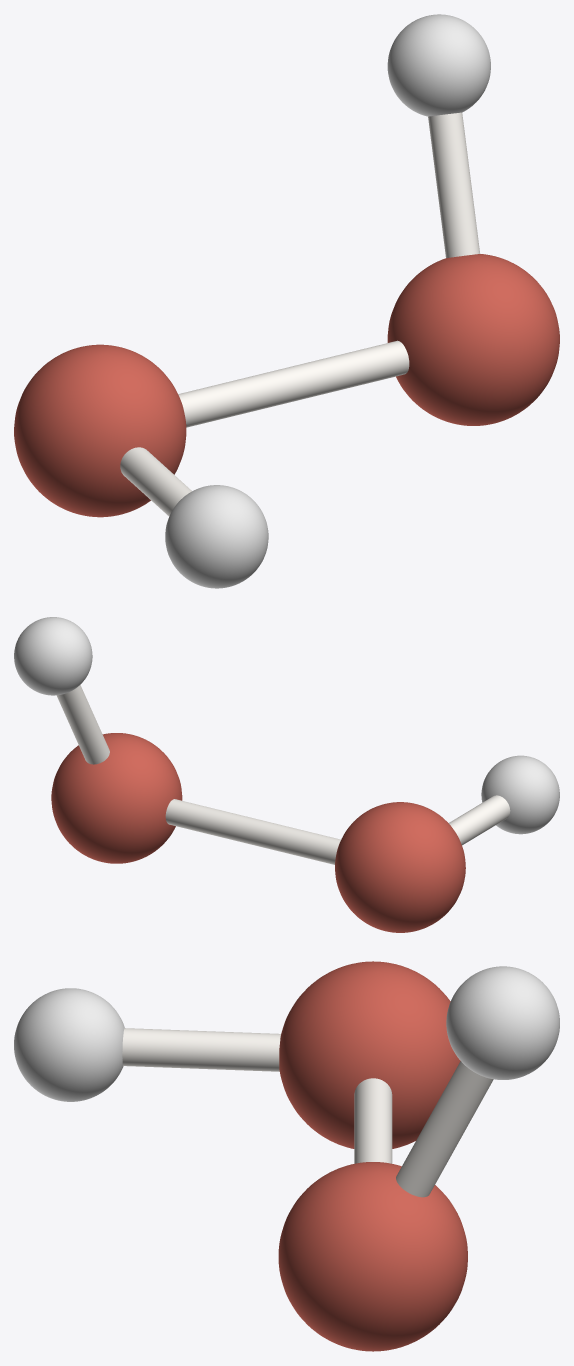
Rendered from s120_8.03_peroxid_vodiku.glb.
3 views of the same model, one above another, from view 1: azimuth 30°, elevation 25°; view 2: azimuth 150°, elevation 25°; view 3: azimuth 270°, elevation 25° (orthographic). The views are drawn at different scales.
Visible parts, largest first — view 1: Sphere 2, Sphere 3, Sphere (×2), Cylinder (×3); view 2: Sphere 3, Sphere 2, Sphere (×2), Cylinder (×3); view 3: Sphere 2, Sphere 3, Sphere (×2), Cylinder (×3).
Part boxes in pixels (box(x1,y1,x2,y2)): Sphere 2: box(387, 254, 559, 425); Sphere 3: box(14, 344, 186, 517); Sphere (×2): box(165, 14, 490, 588); Cylinder (×3): box(120, 112, 480, 516); Sphere 3: box(335, 802, 465, 932); Sphere 2: box(51, 733, 182, 863); Sphere (×2): box(14, 617, 559, 834); Cylinder (×3): box(56, 685, 510, 864); Sphere 2: box(278, 1162, 467, 1351); Sphere 3: box(279, 961, 460, 1148); Sphere (×2): box(14, 966, 559, 1101); Cylinder (×3): box(122, 1028, 493, 1197).
Size of the model in its own units: 0.7 by 0.447 by 0.5758.
